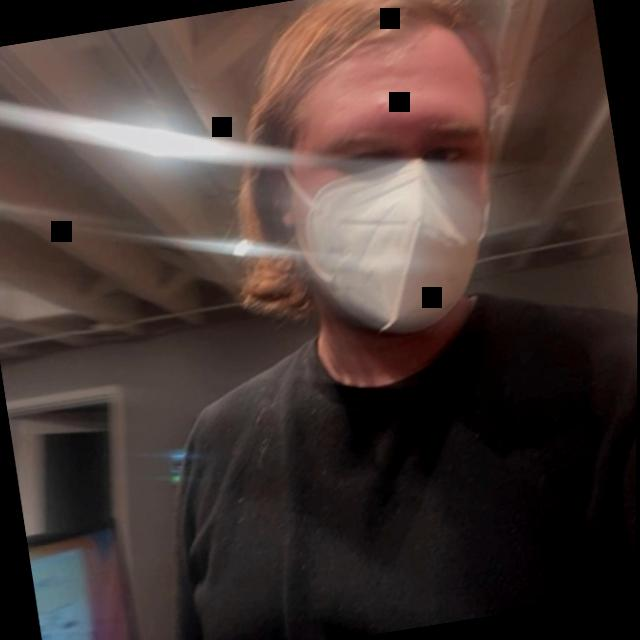Mask: (199, 0, 542, 355)
